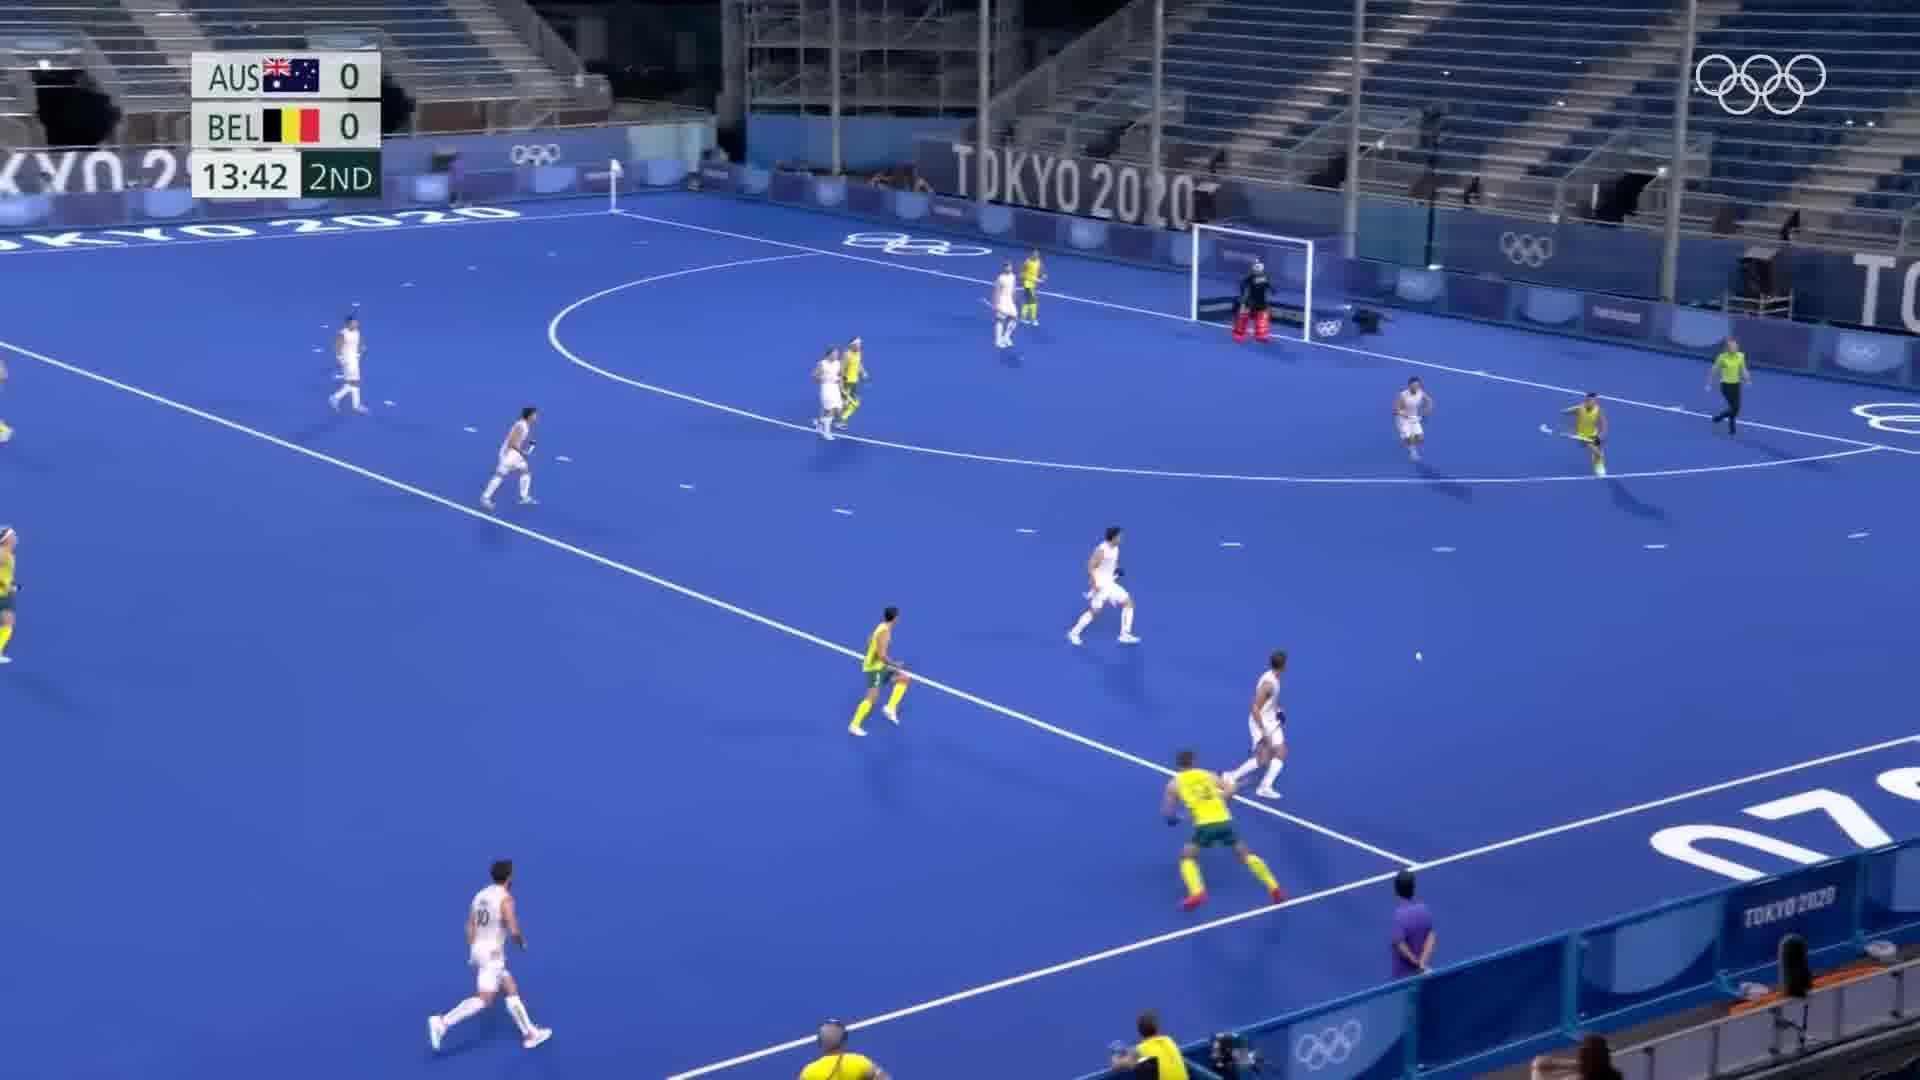ball: (1404, 645, 1437, 669)
